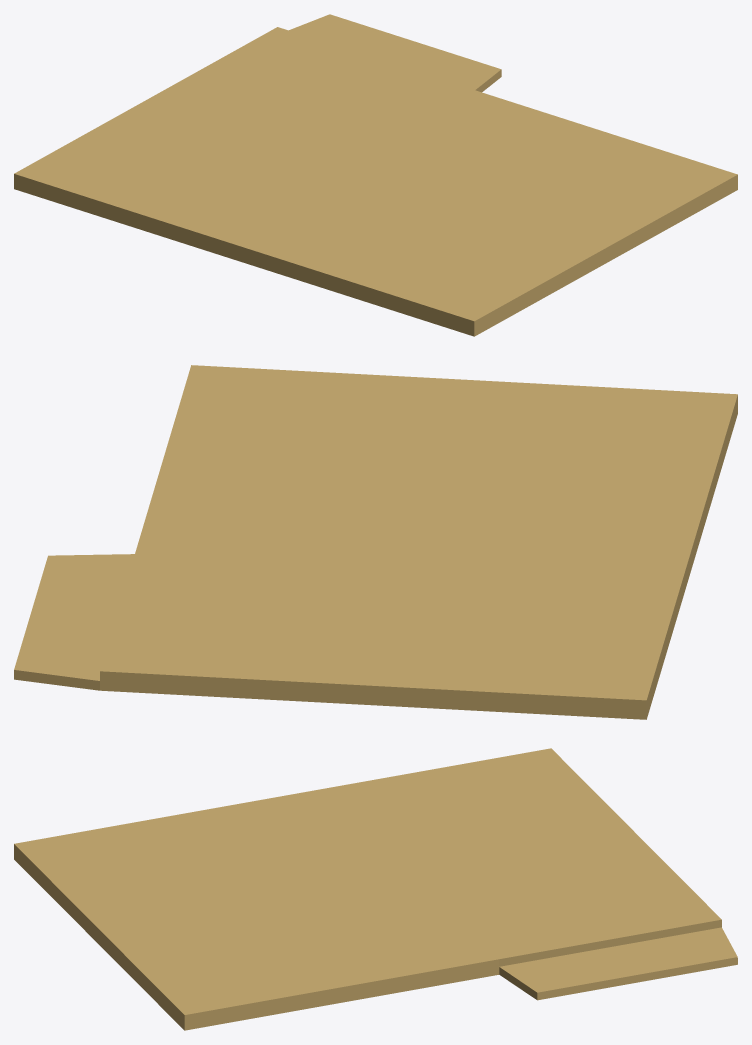
Rendered from FolderFinal.fbx.
The picture shows the model from 3 angles, top to bottom: view 1: azimuth 30°, elevation 25°; view 2: azimuth 150°, elevation 25°; view 3: azimuth 270°, elevation 25°; orthographic projection. The views are drawn at different scales.
Visible parts, largest first — view 1: Folder; view 2: Folder; view 3: Folder.
Boxes of the visible parts, <box> form: Folder: <box>14,14,737,336</box>; Folder: <box>14,365,737,719</box>; Folder: <box>14,748,737,1030</box>.
Bounding box in the file's own units: 121 × 3.28 × 139.
